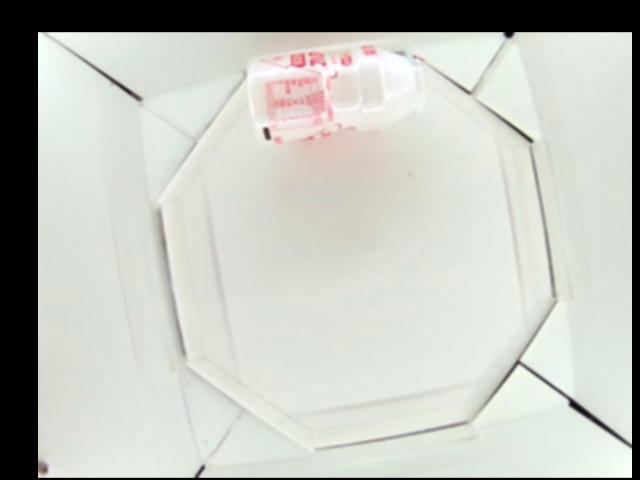Bottle: (244, 44, 428, 142)
